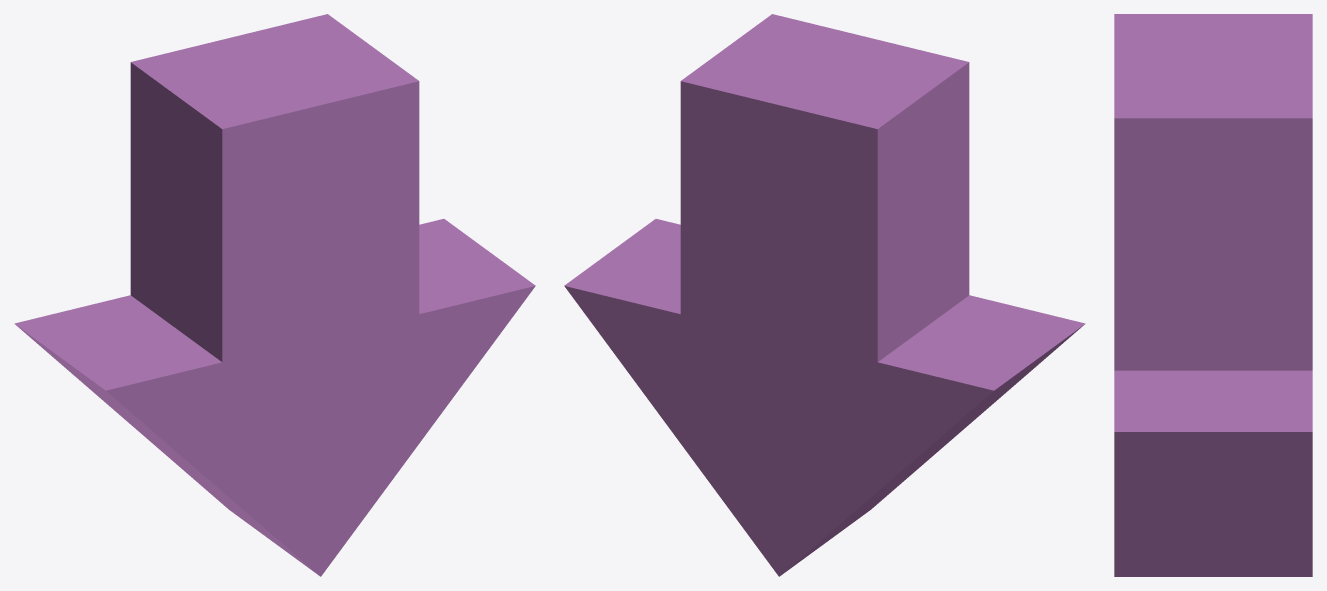
File: Arrow.fbx
The picture shows the model from 3 angles, left to right: view 1: azimuth 30°, elevation 25°; view 2: azimuth 150°, elevation 25°; view 3: azimuth 270°, elevation 25°; orthographic projection. The views are drawn at different scales.
Parts seen in each view (by area): view 1: Plane; view 2: Plane; view 3: Plane.
Boxes of the visible parts, x1,y1,x2,y2 form: Plane: (14,14,535,576); Plane: (564,14,1085,576); Plane: (1114,14,1312,576).
Size of the model in its own units: 106 by 111 by 39.22.
